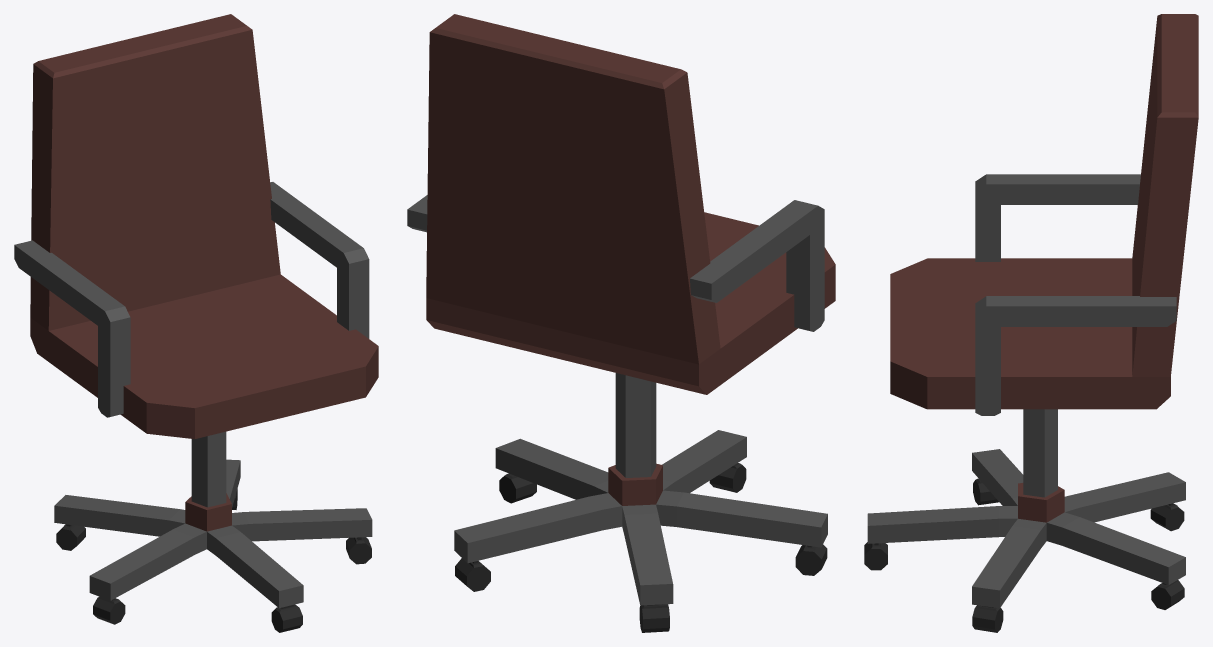
Rendered from chair.fbx.
3 renders of one model, left to right at view 1: azimuth 30°, elevation 25°; view 2: azimuth 150°, elevation 25°; view 3: azimuth 270°, elevation 25°, orthographic. The views are drawn at different scales.
Visible parts, largest first — view 1: OfficeChair_02; view 2: OfficeChair_02; view 3: OfficeChair_02.
Boxes of the visible parts, box(x1,y1,x2,y2) form: OfficeChair_02: box(14, 14, 378, 632); OfficeChair_02: box(407, 14, 835, 632); OfficeChair_02: box(864, 14, 1198, 632).
Size of the model in its own units: 116 by 192 by 116.
